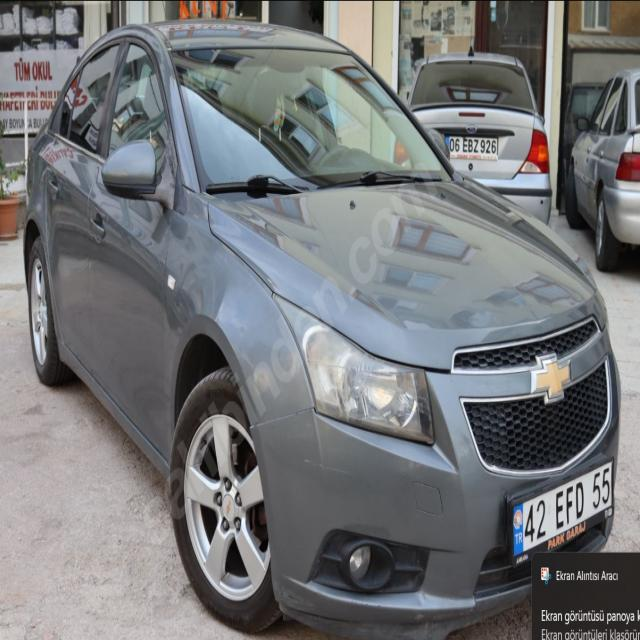chevrolet: (527, 350, 575, 407)
